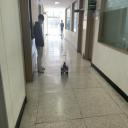cart: (60, 64, 68, 74)
